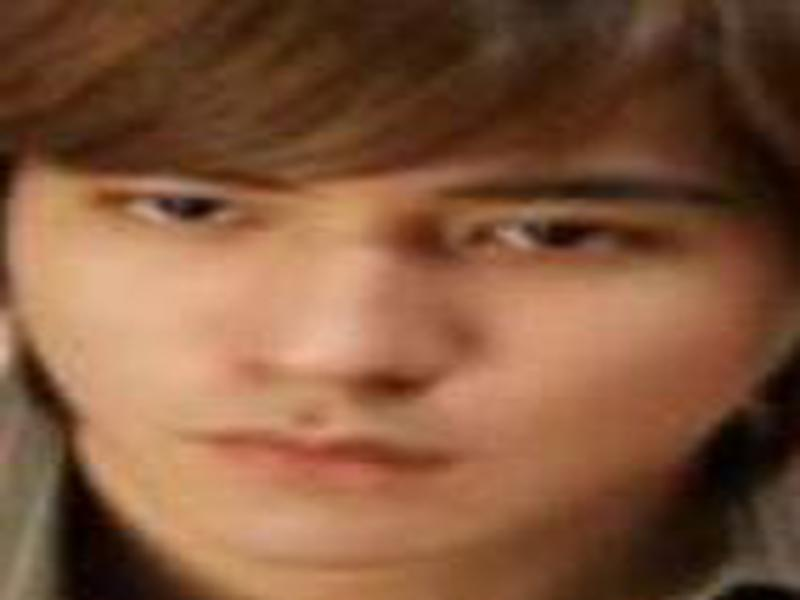without_mask: (14, 116, 766, 567)
